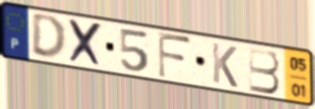5: (118, 29, 151, 74)
B: (247, 46, 282, 96)
D: (30, 13, 69, 62)
F: (156, 30, 195, 82)
K: (210, 40, 240, 90)
X: (67, 17, 105, 70)
